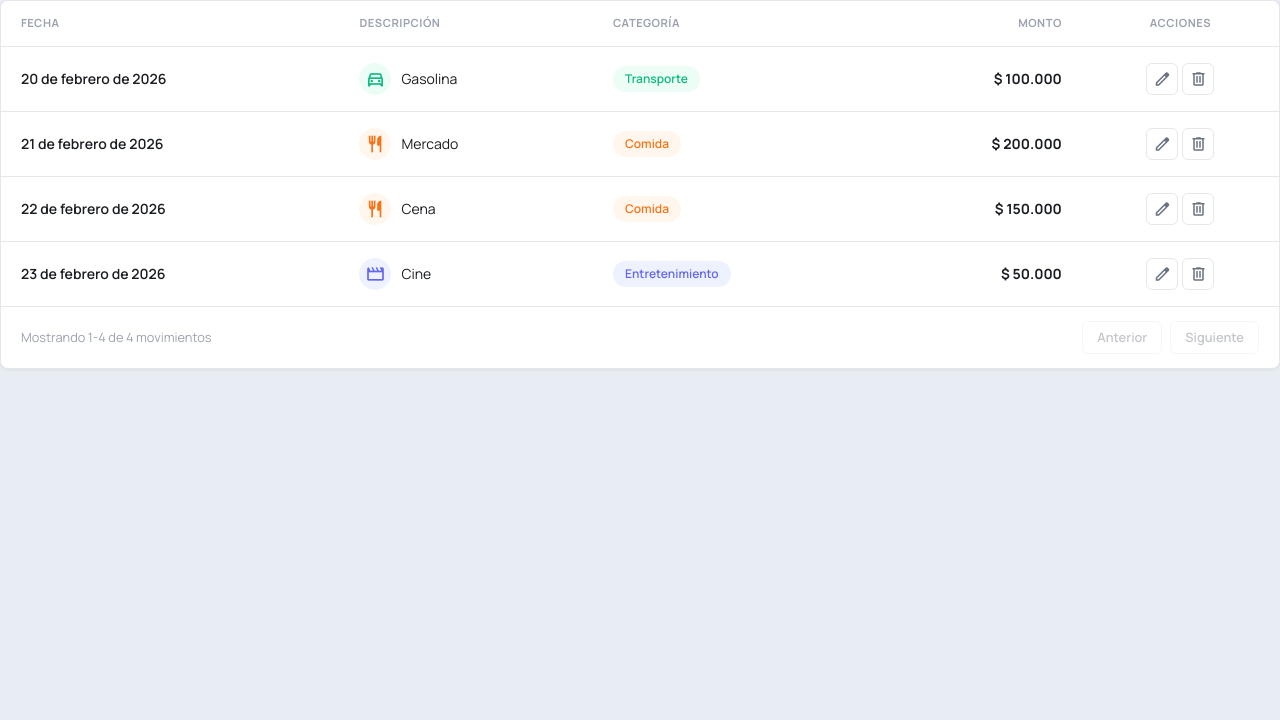
Scenario: ExpenseList Component › should open edit modal on edit button click (Functionality)
Click the 1st button titled "Editar" at (1162, 79), box [1146, 63, 1178, 95]
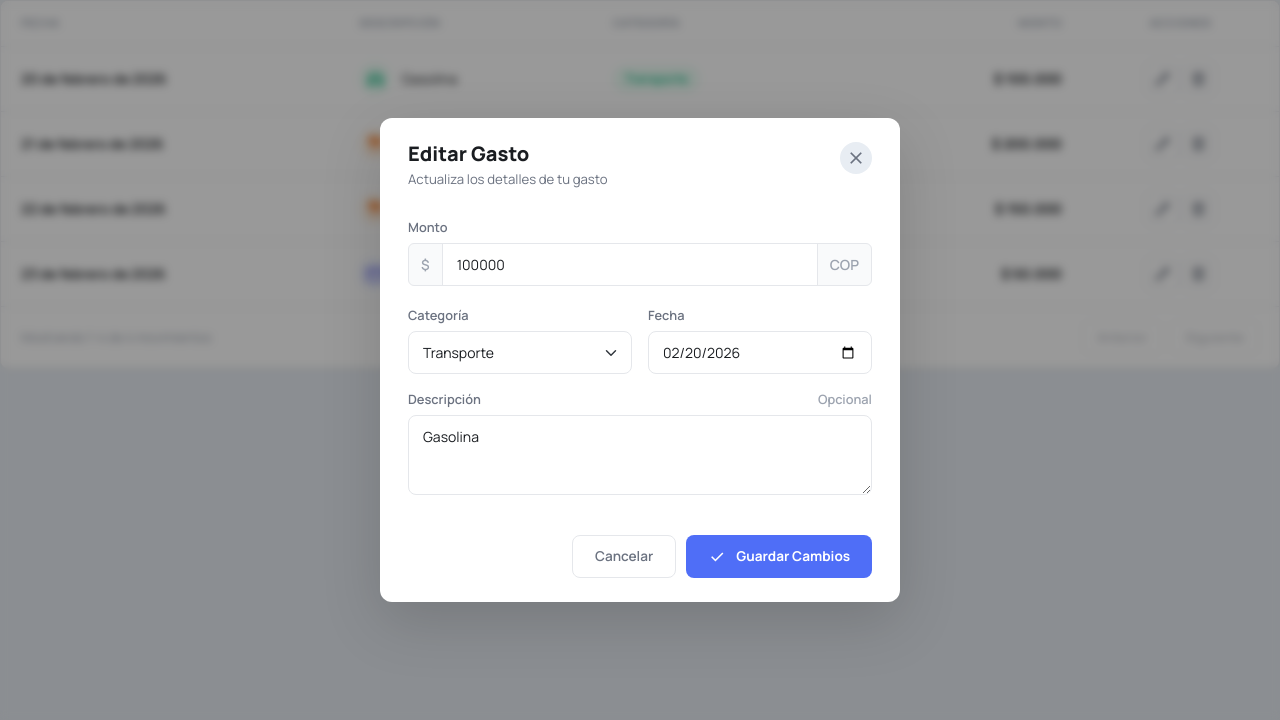
Result: the heading "Editar Gasto" is shown at [408, 140, 529, 167]
Result: the text "Actualiza los detalles de tu gasto" is shown at [408, 170, 608, 190]
